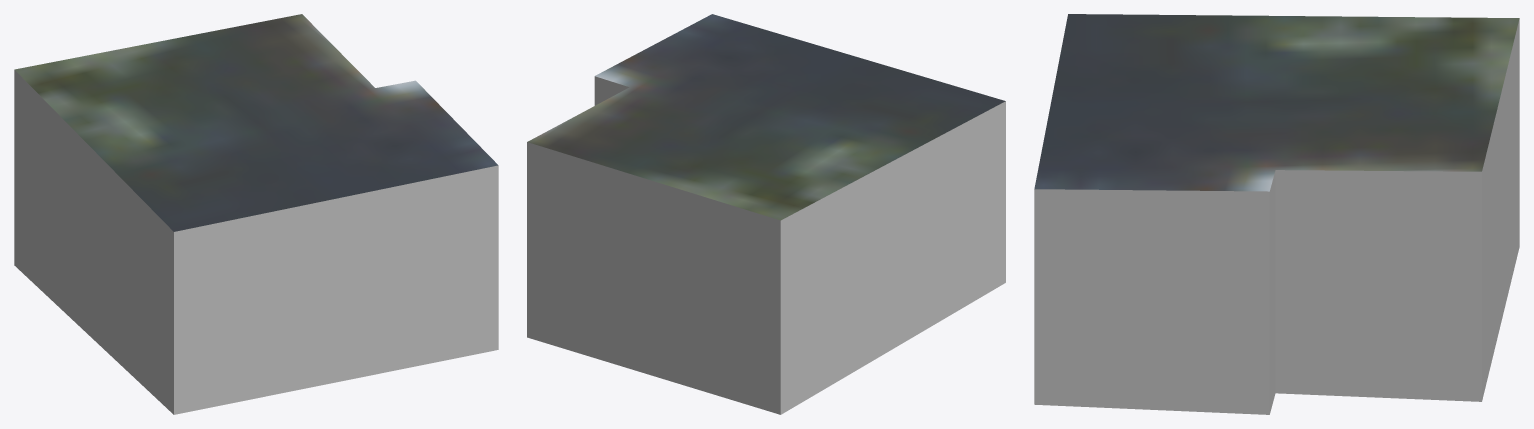
File: DEBW_0010007THZi.gltf
3 renders of one model, left to right at view 1: azimuth 30°, elevation 25°; view 2: azimuth 150°, elevation 25°; view 3: azimuth 270°, elevation 25°, orthographic. The views are drawn at different scales.
Parts seen in each view (by area): view 1: Z_UP; view 2: Z_UP; view 3: Z_UP.
Part boxes in pixels (x1=…): Z_UP: x1=14, y1=14, x2=498, y2=414; Z_UP: x1=527, y1=14, x2=1005, y2=414; Z_UP: x1=1034, y1=14, x2=1519, y2=414.
Size of the model in its own units: 4.59 by 2.63 by 5.03.
2 materials, 1 textured.
